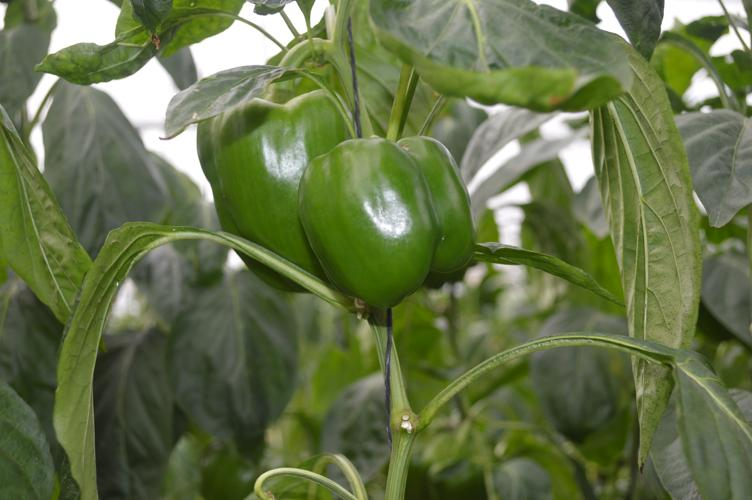BellPepper: (193, 93, 345, 291), (295, 139, 473, 307)
